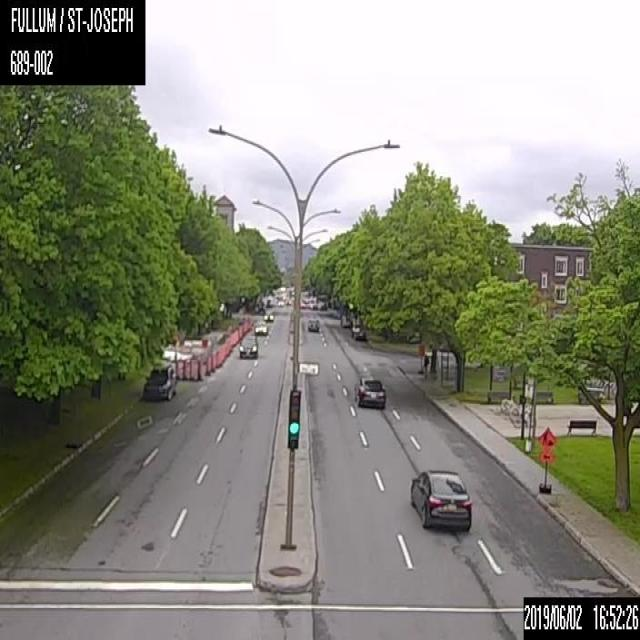construction: (536, 424, 556, 493), (173, 359, 181, 381), (187, 358, 195, 379), (195, 359, 203, 380), (180, 359, 188, 379), (204, 356, 210, 374), (210, 354, 215, 371), (202, 338, 206, 346)
pedestrian: (420, 351, 428, 378)
vehicle: (407, 465, 472, 532), (142, 360, 175, 400), (353, 375, 386, 408), (238, 334, 257, 358), (254, 319, 267, 335), (350, 326, 366, 339), (307, 317, 319, 332), (263, 308, 273, 321), (277, 299, 283, 306)
